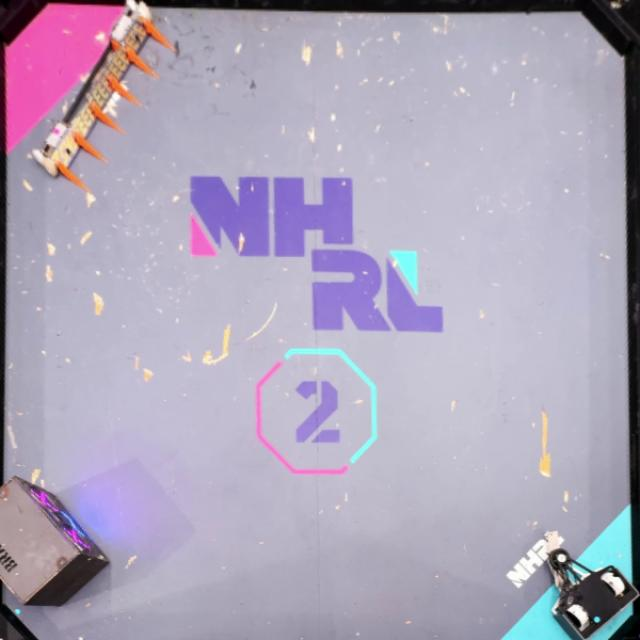housebot: (0, 474, 108, 608)
robot: (29, 2, 170, 190), (547, 530, 640, 640)
